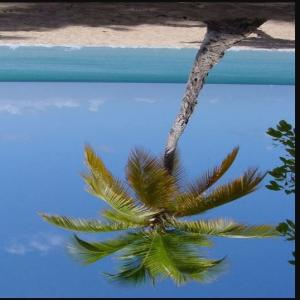palm tree: (37, 142, 288, 289)
